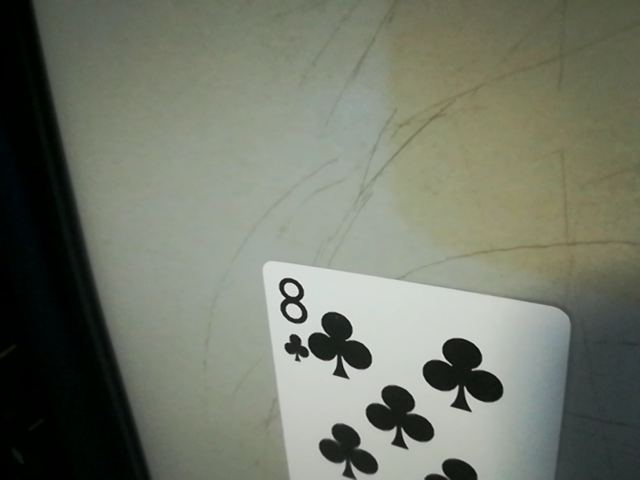mh 8: (263, 270, 314, 365)
